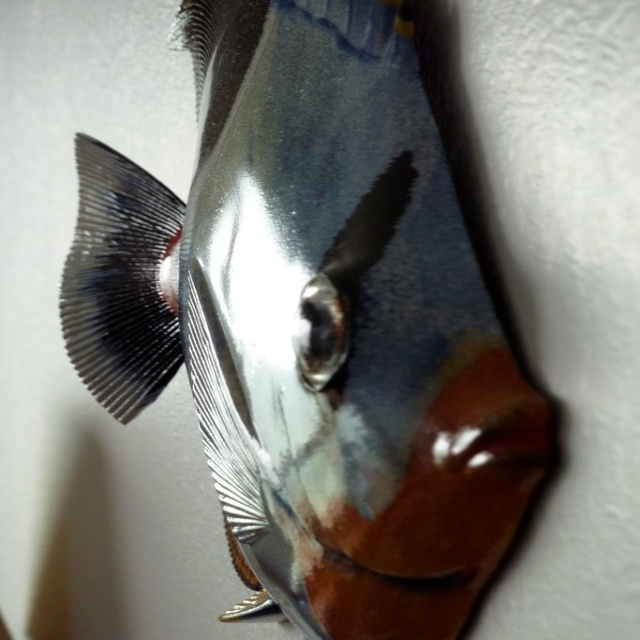Fish: (52, 24, 517, 626)
